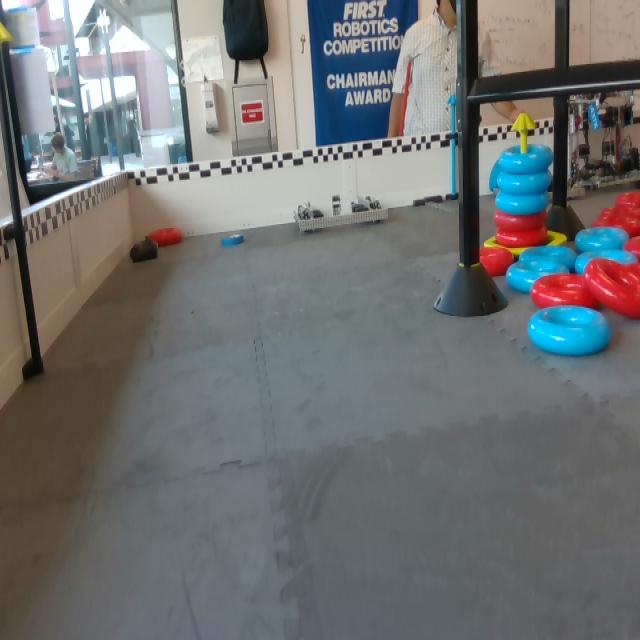Blue-Ring: (529, 305, 613, 359), (508, 259, 571, 295), (520, 244, 579, 272), (575, 250, 637, 275), (501, 145, 552, 174), (497, 170, 552, 195), (496, 190, 551, 215), (574, 227, 629, 252), (489, 156, 503, 196), (216, 232, 246, 247)
Mobile-Goal: (484, 112, 567, 254)
Red-Ring: (585, 261, 639, 319), (531, 275, 601, 310), (494, 225, 549, 248), (493, 209, 548, 230), (593, 213, 639, 237), (480, 246, 515, 277), (148, 227, 185, 248), (599, 204, 639, 217), (615, 191, 639, 206), (625, 236, 639, 258)
Yellow-Stake-Head: (512, 114, 536, 130), (0, 23, 14, 46)
zblue-Stake-Head: (448, 94, 457, 104)
